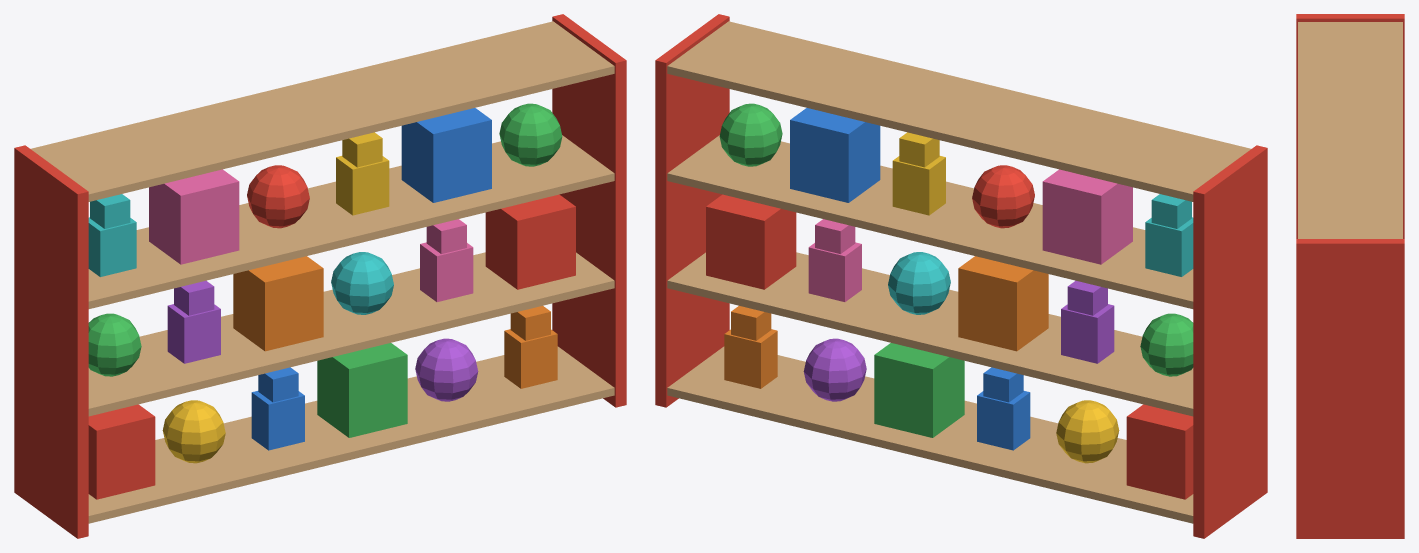
The model's file is toy_shelf.glb.
3 views of the same model, side by side, from view 1: azimuth 30°, elevation 25°; view 2: azimuth 150°, elevation 25°; view 3: azimuth 270°, elevation 25° (orthographic). The views are drawn at different scales.
Parts seen in each view (by area): view 1: boards_shelf_wood, sides_shelf_side, toys_0, toys_3, toys_7, toys_5, toys_2, toys_4, toys_1, toys_6; view 2: boards_shelf_wood, sides_shelf_side, toys_0, toys_3, toys_7, toys_5, toys_2, toys_4, toys_1, toys_6; view 3: sides_shelf_side, boards_shelf_wood.
Boxes of the visible parts, x1,y1,x2,y2 form: boards_shelf_wood: [31, 21, 614, 523]; sides_shelf_side: [14, 14, 626, 538]; toys_0: [88, 165, 575, 499]; toys_3: [88, 103, 562, 437]; toys_7: [149, 169, 473, 301]; toys_5: [233, 256, 557, 388]; toys_2: [251, 108, 491, 450]; toys_4: [167, 280, 478, 401]; toys_1: [162, 132, 389, 463]; toys_6: [88, 194, 393, 314]; boards_shelf_wood: [667, 21, 1250, 523]; sides_shelf_side: [655, 14, 1267, 538]; toys_0: [706, 165, 1193, 499]; toys_3: [719, 103, 1193, 437]; toys_7: [808, 169, 1132, 301]; toys_5: [724, 256, 1048, 388]; toys_2: [790, 108, 1030, 450]; toys_4: [803, 280, 1114, 401]; toys_1: [892, 132, 1119, 463]; toys_6: [888, 194, 1193, 314]; sides_shelf_side: [1296, 14, 1404, 538]; boards_shelf_wood: [1298, 22, 1402, 238].
Bounding box in the file's own units: 3 × 1.8 × 0.6.
